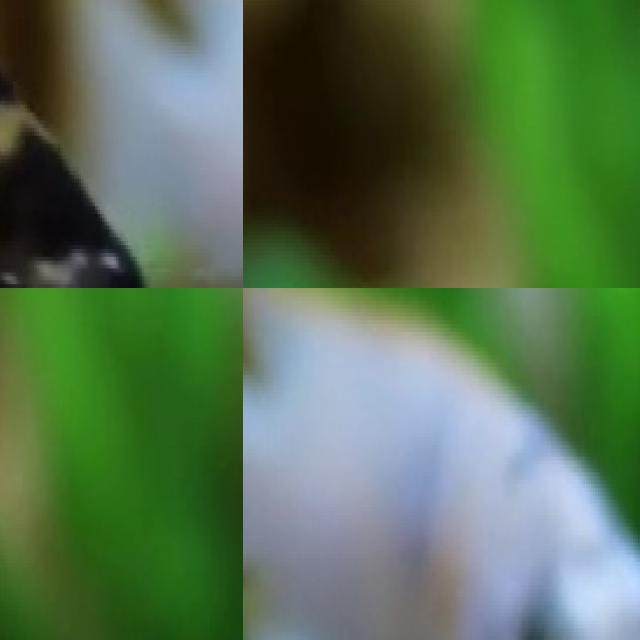fish: (243, 288, 640, 640), (0, 0, 243, 288)
